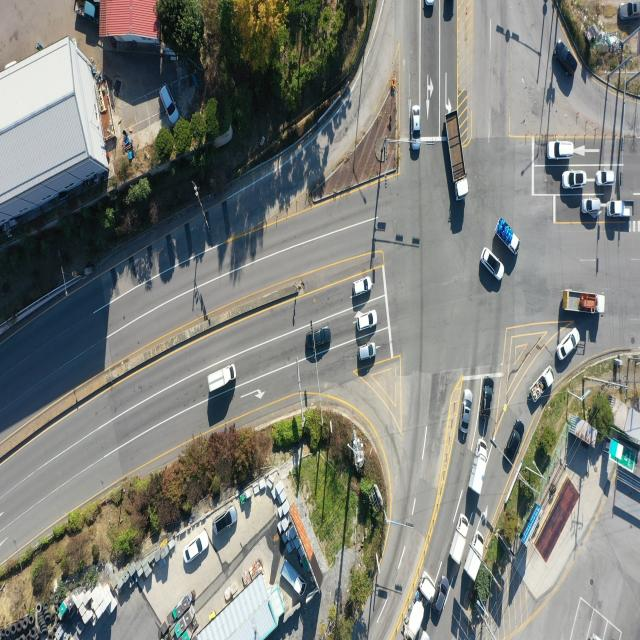car: (503, 421, 525, 465), (554, 39, 577, 76), (303, 328, 331, 357), (185, 534, 210, 566), (482, 250, 505, 284), (558, 330, 580, 363), (162, 85, 180, 125), (213, 505, 236, 535), (459, 390, 472, 439), (547, 139, 575, 161), (432, 576, 448, 612), (356, 310, 378, 332), (562, 170, 586, 190), (618, 0, 640, 20), (352, 276, 372, 298), (412, 104, 422, 148), (482, 376, 494, 412), (582, 198, 602, 216), (357, 343, 375, 362), (596, 170, 616, 187), (418, 630, 431, 640), (425, 0, 434, 10)
medium_truck: (442, 108, 467, 199), (403, 574, 437, 640), (562, 290, 604, 314)
small_truck: (470, 439, 492, 499), (448, 516, 469, 570), (282, 557, 307, 600), (527, 365, 553, 403), (464, 533, 484, 582), (207, 362, 235, 394), (497, 216, 519, 254), (73, 0, 96, 21), (609, 200, 634, 219)
